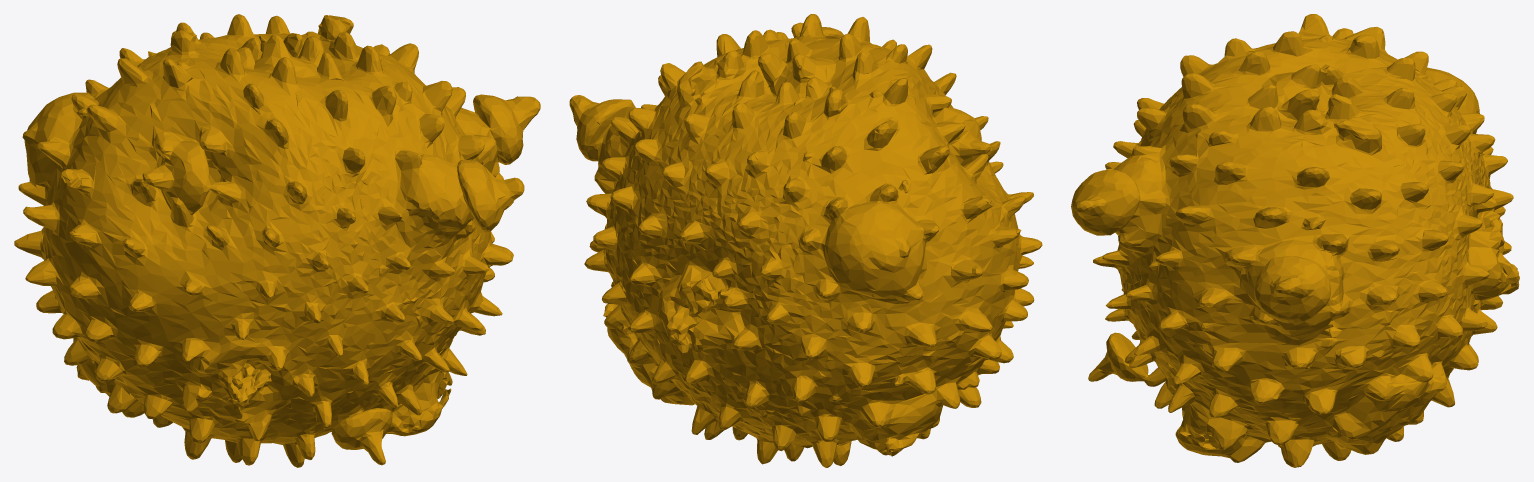
File: 3DPX-017879-0.glb
The picture shows the model from 3 angles, left to right: view 1: azimuth 30°, elevation 25°; view 2: azimuth 150°, elevation 25°; view 3: azimuth 270°, elevation 25°; orthographic projection. The views are drawn at different scales.
Bounding box in the file's own units: 140 × 117 × 122.
